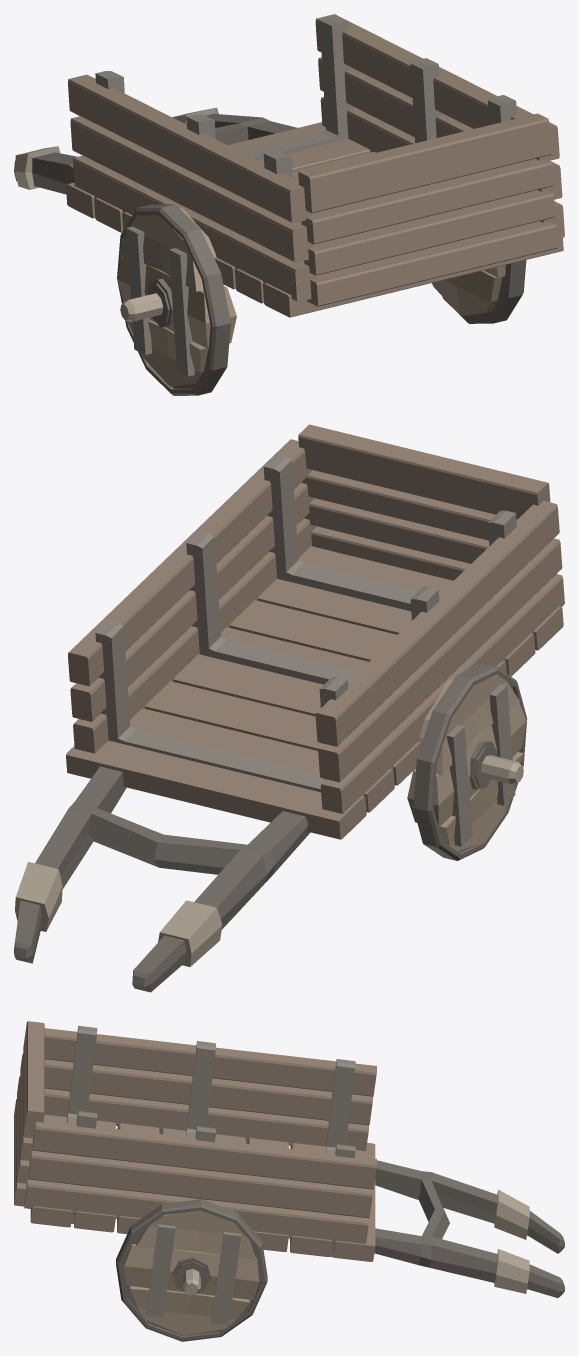
The model's file is houtenkar.fbx.
3 views of the same model, one above another, from view 1: azimuth 30°, elevation 25°; view 2: azimuth 150°, elevation 25°; view 3: azimuth 270°, elevation 25° (orthographic). The views are drawn at different scales.
Parts seen in each view (by area): view 1: HoutenKar; view 2: HoutenKar; view 3: HoutenKar.
Boxes of the visible parts, x1=… form: HoutenKar: x1=14, y1=14, x2=564, y2=395; HoutenKar: x1=14, y1=424, x2=564, y2=992; HoutenKar: x1=14, y1=1021, x2=564, y2=1341.
Bounding box in the file's own units: 1.71 × 1.17 × 2.69.
